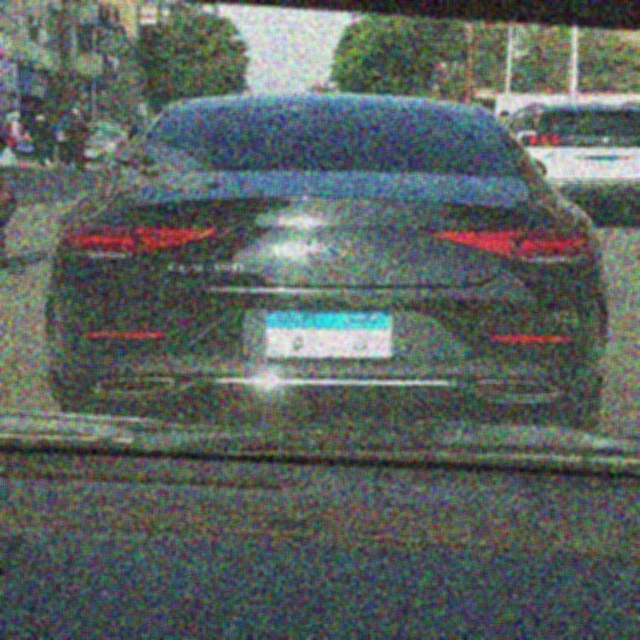License Plate: (263, 306, 397, 363)
